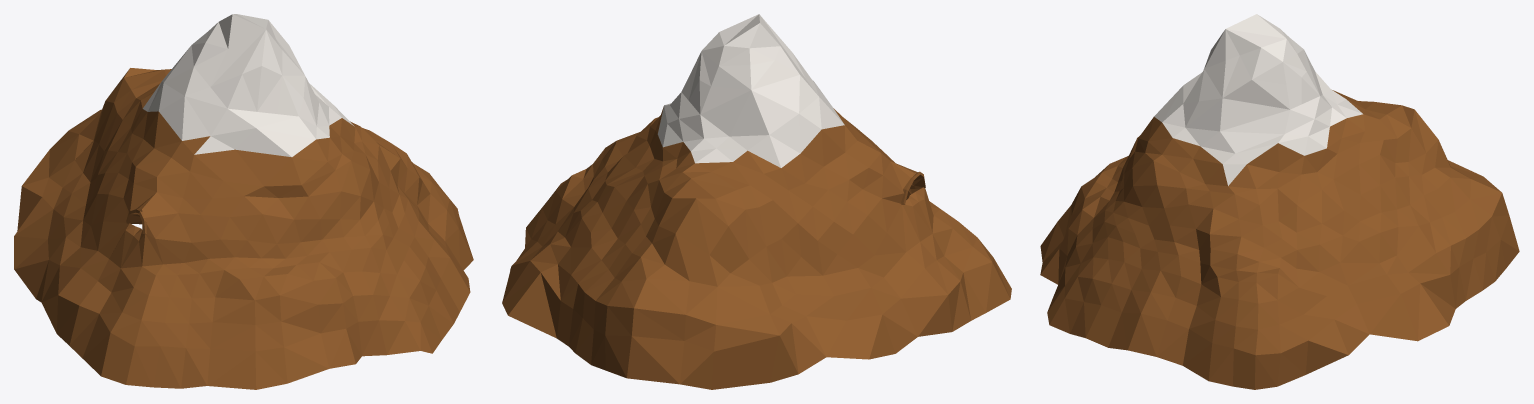
File: cave_over 1.fbx
3 renders of one model, left to right at view 1: azimuth 30°, elevation 25°; view 2: azimuth 150°, elevation 25°; view 3: azimuth 270°, elevation 25°, orthographic. The views are drawn at different scales.
Visible parts, largest first — view 1: Plane.034; view 2: Plane.034; view 3: Plane.034.
Part boxes in pixels (x1,y1,x2,y2): Plane.034: (14, 14, 473, 389); Plane.034: (502, 14, 1011, 389); Plane.034: (1040, 14, 1519, 389).
Size of the model in its own units: 3842 by 2500 by 4013.
